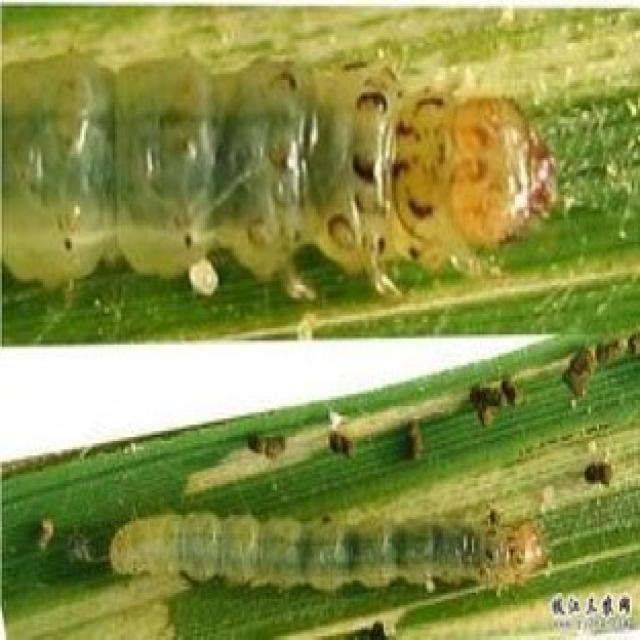rice leaf roller: (2, 53, 558, 297), (109, 505, 548, 589), (560, 332, 638, 408), (468, 375, 519, 427), (583, 441, 611, 486), (328, 410, 351, 455), (246, 433, 285, 459), (406, 418, 421, 459), (39, 519, 51, 548)
